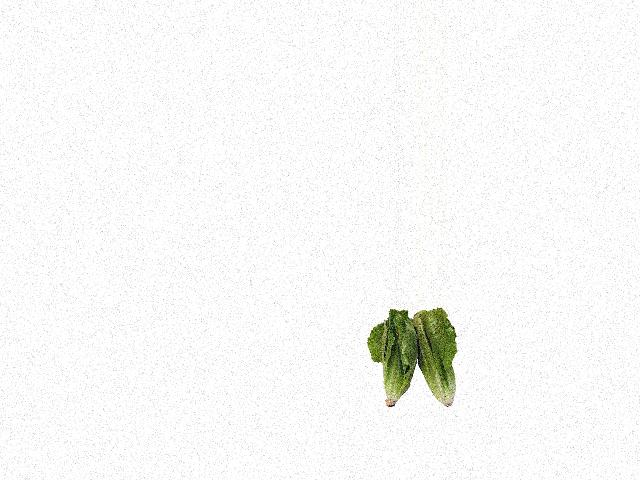lettuce: (377, 308, 461, 408)
